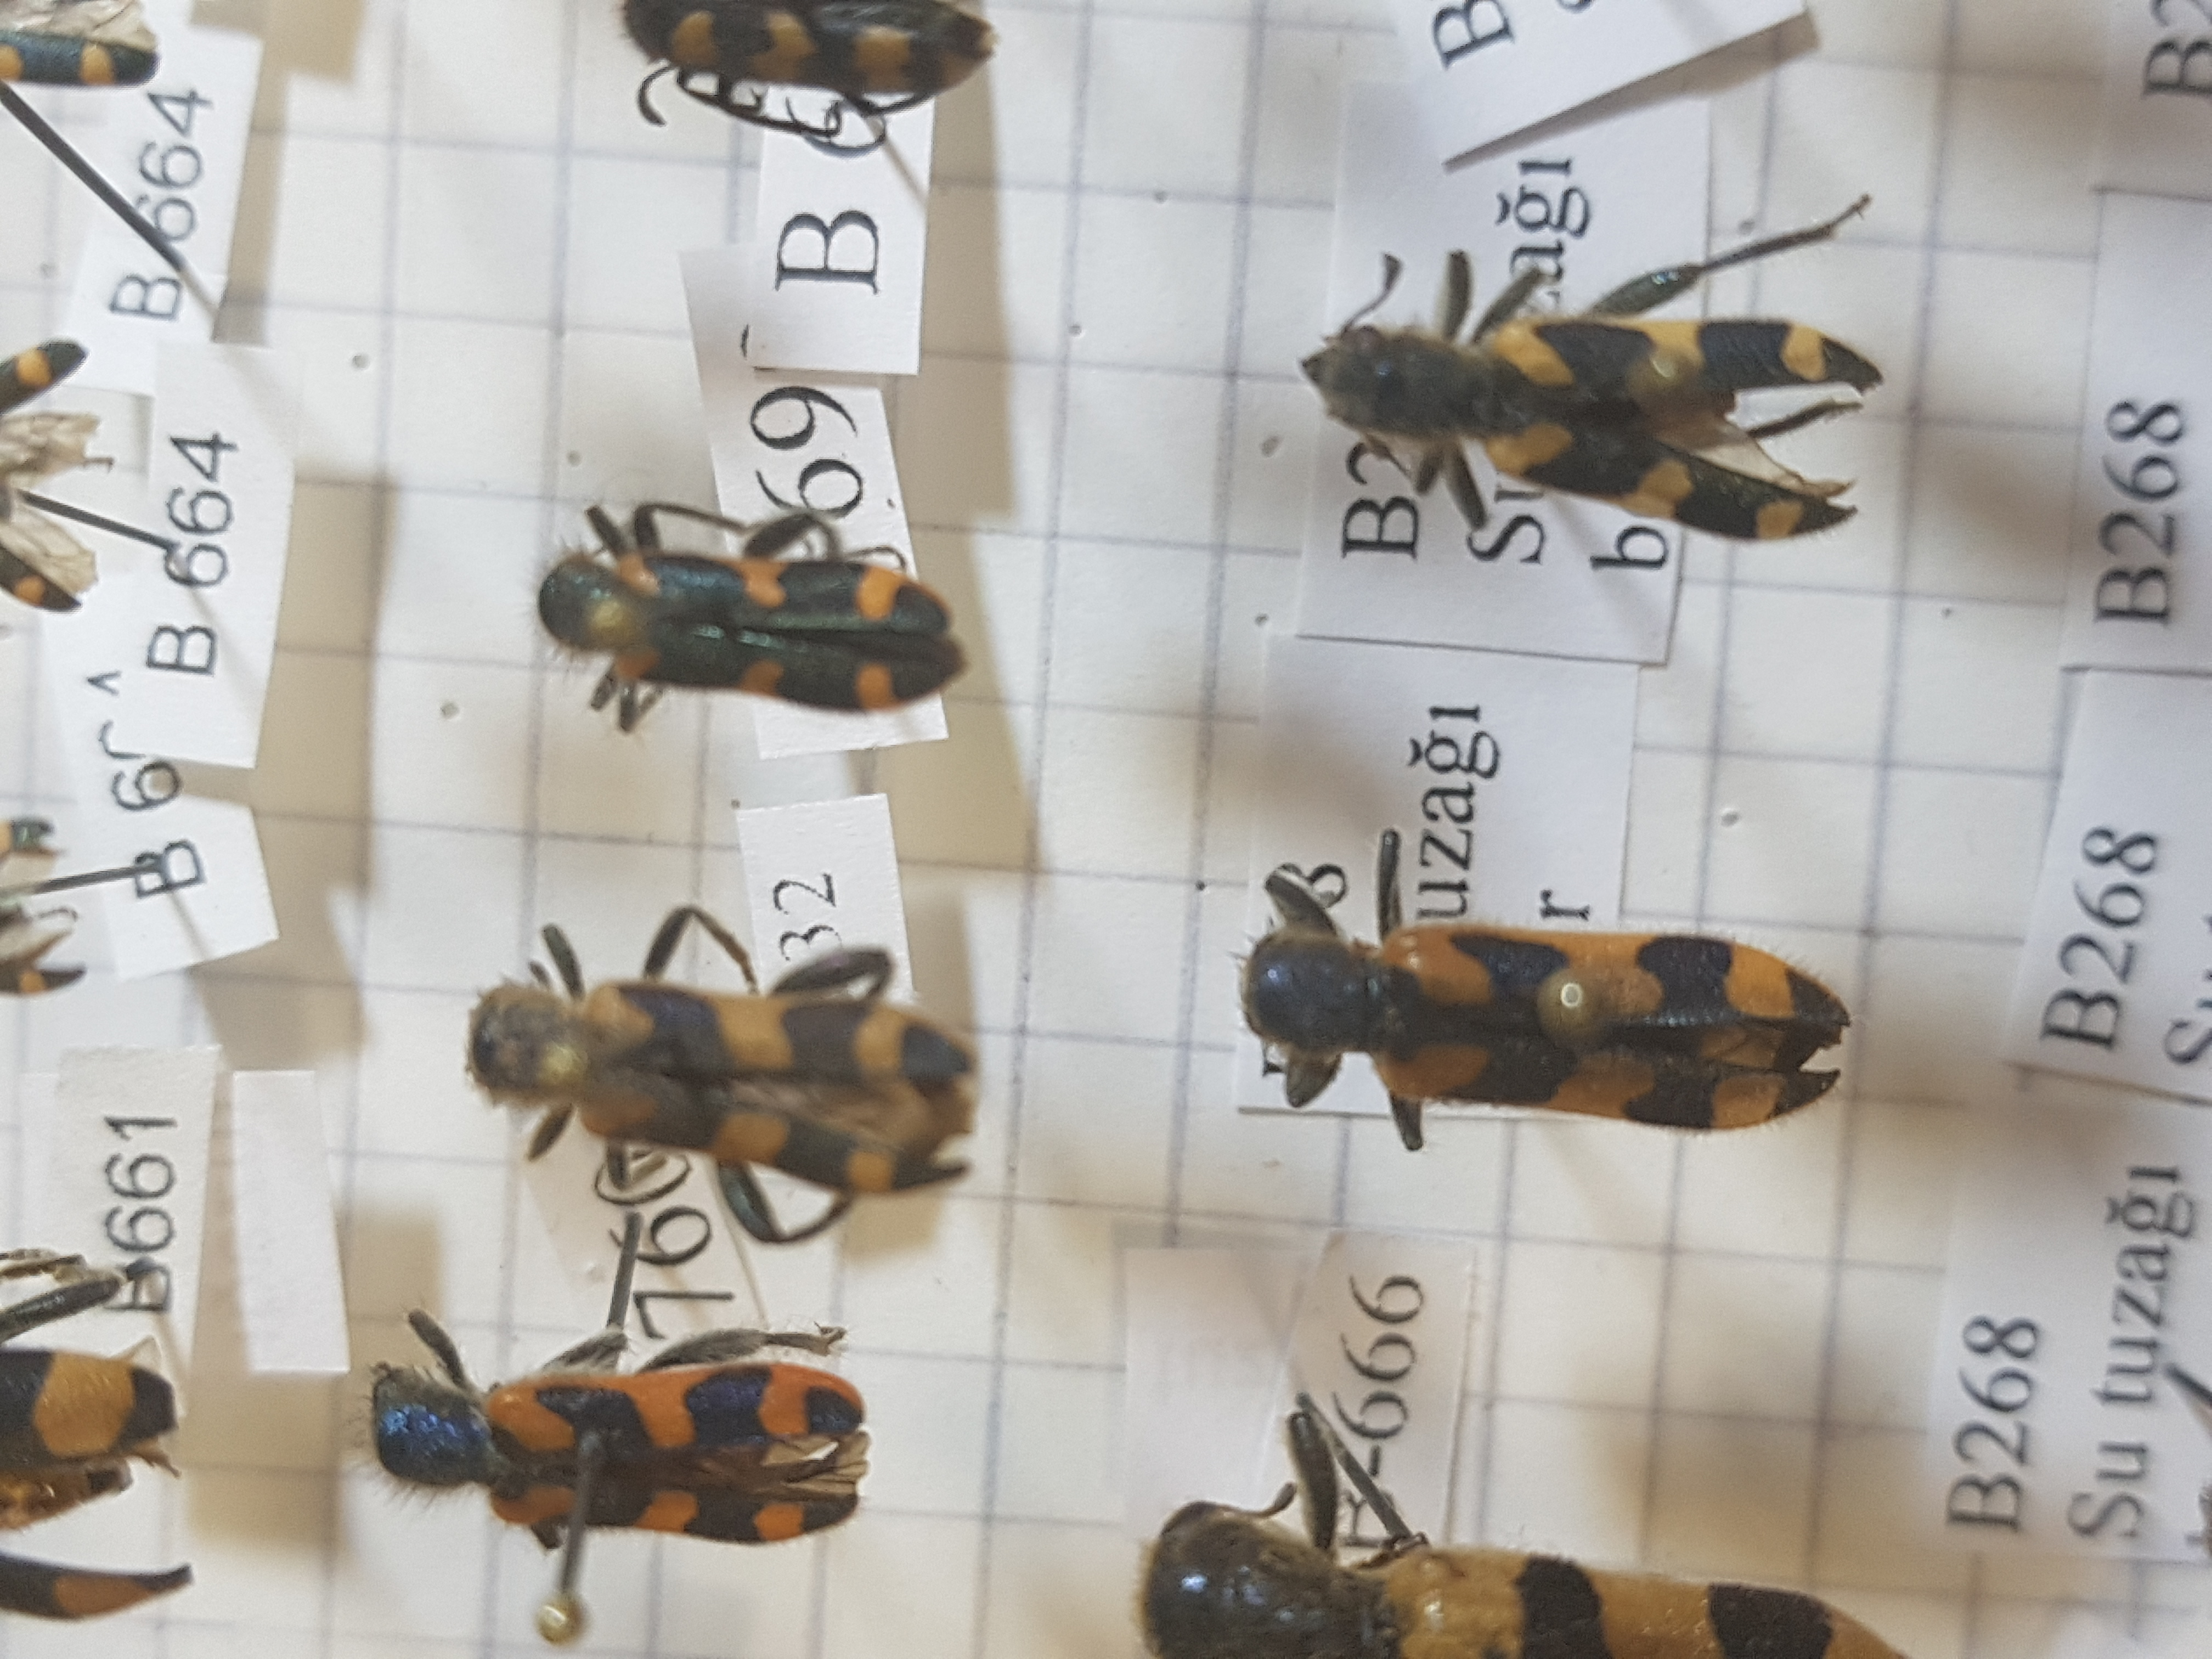trichodes_crabroniformis: (1214, 835, 1865, 1178), (428, 896, 1015, 1244), (1256, 249, 1898, 542), (343, 1298, 873, 1547), (531, 493, 977, 734)
